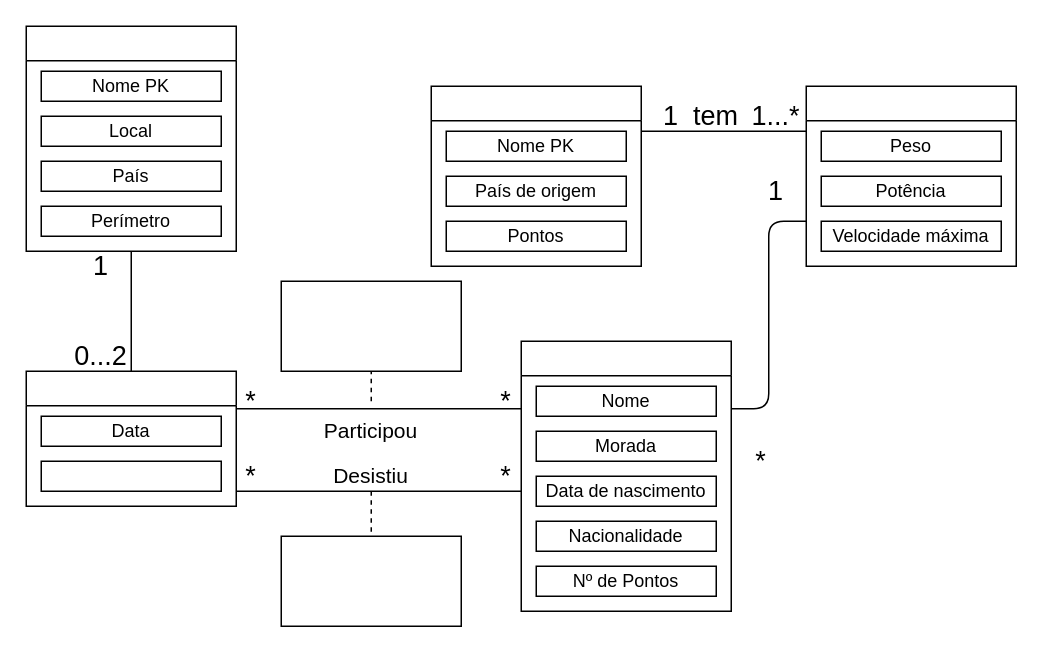
Image size: 1043x653. Some labels were removed from this diagram. The shapes that lost their labels are listed below. From the top down, each one's box as (x1, y1, x2, y2) in pixels, then its label:
(25, 25, 236, 251): Circuito
(430, 85, 641, 266): Marca
(805, 85, 1016, 266): Carro
(280, 280, 461, 371): Posição de grelha Classificação final
(25, 370, 236, 506): Corrida
(40, 460, 221, 491): Nº de voltas
(520, 340, 731, 611): Piloto
(280, 535, 461, 626): Volta Motivo
